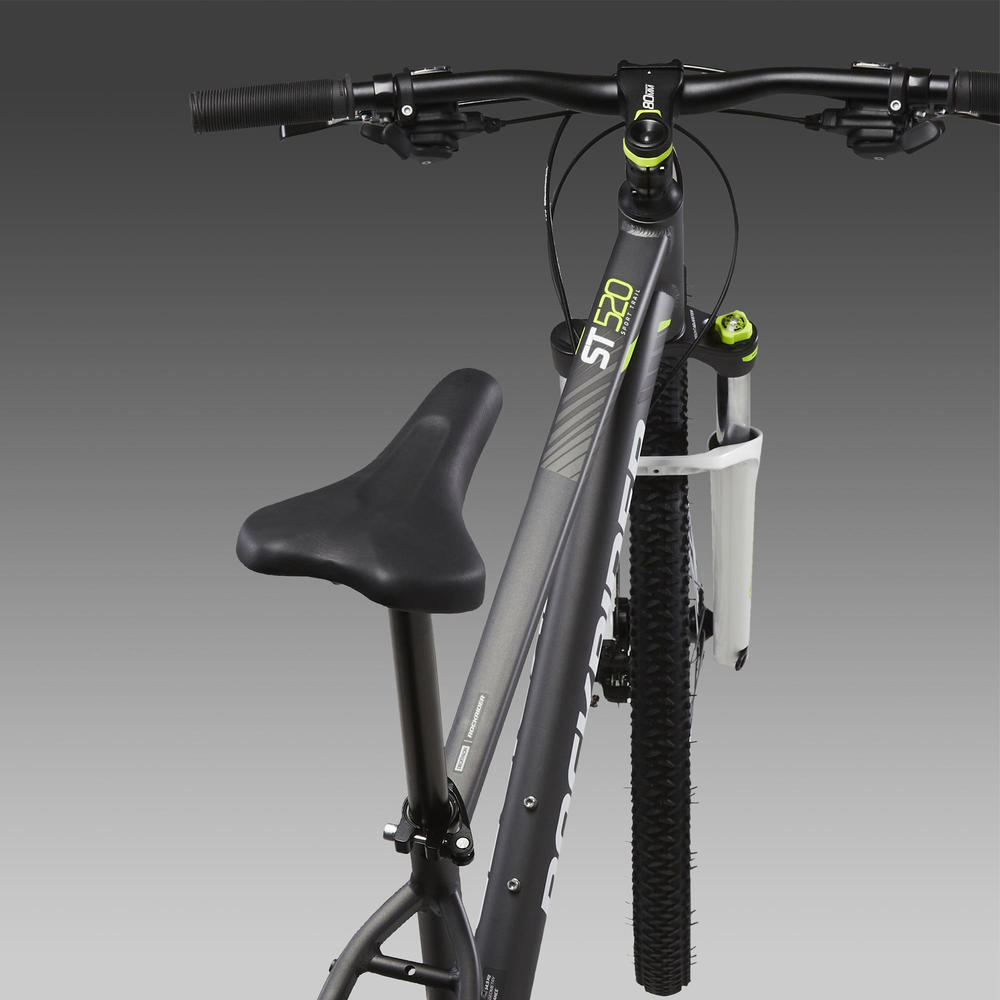MountainBike: (199, 38, 1000, 984)
